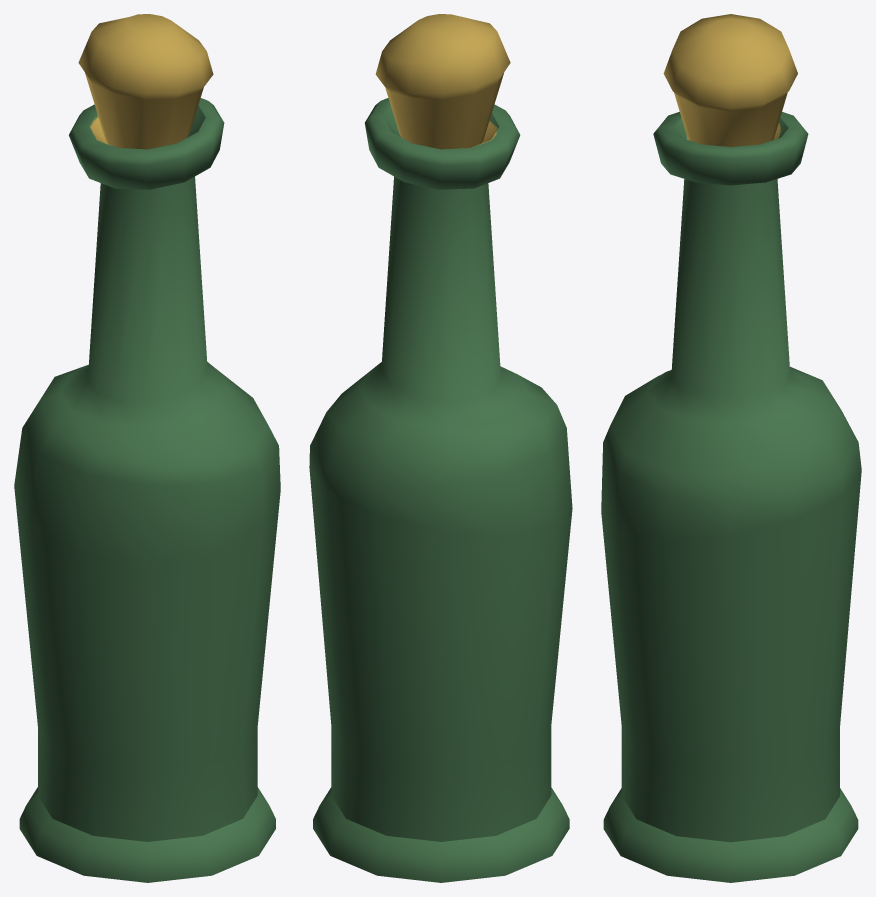
Rendered from bouteille_mesh 1.fbx.
3 renders of one model, left to right at view 1: azimuth 30°, elevation 25°; view 2: azimuth 150°, elevation 25°; view 3: azimuth 270°, elevation 25°, orthographic.
Visible parts, largest first — view 1: bouteille001; view 2: bouteille001; view 3: bouteille001.
Boxes of the visible parts, x1,y1,x2,y2 form: bouteille001: (14,14,280,882); bouteille001: (309,14,572,882); bouteille001: (601,14,861,882).
Bounding box in the file's own units: 36.23 × 122 × 35.82.
